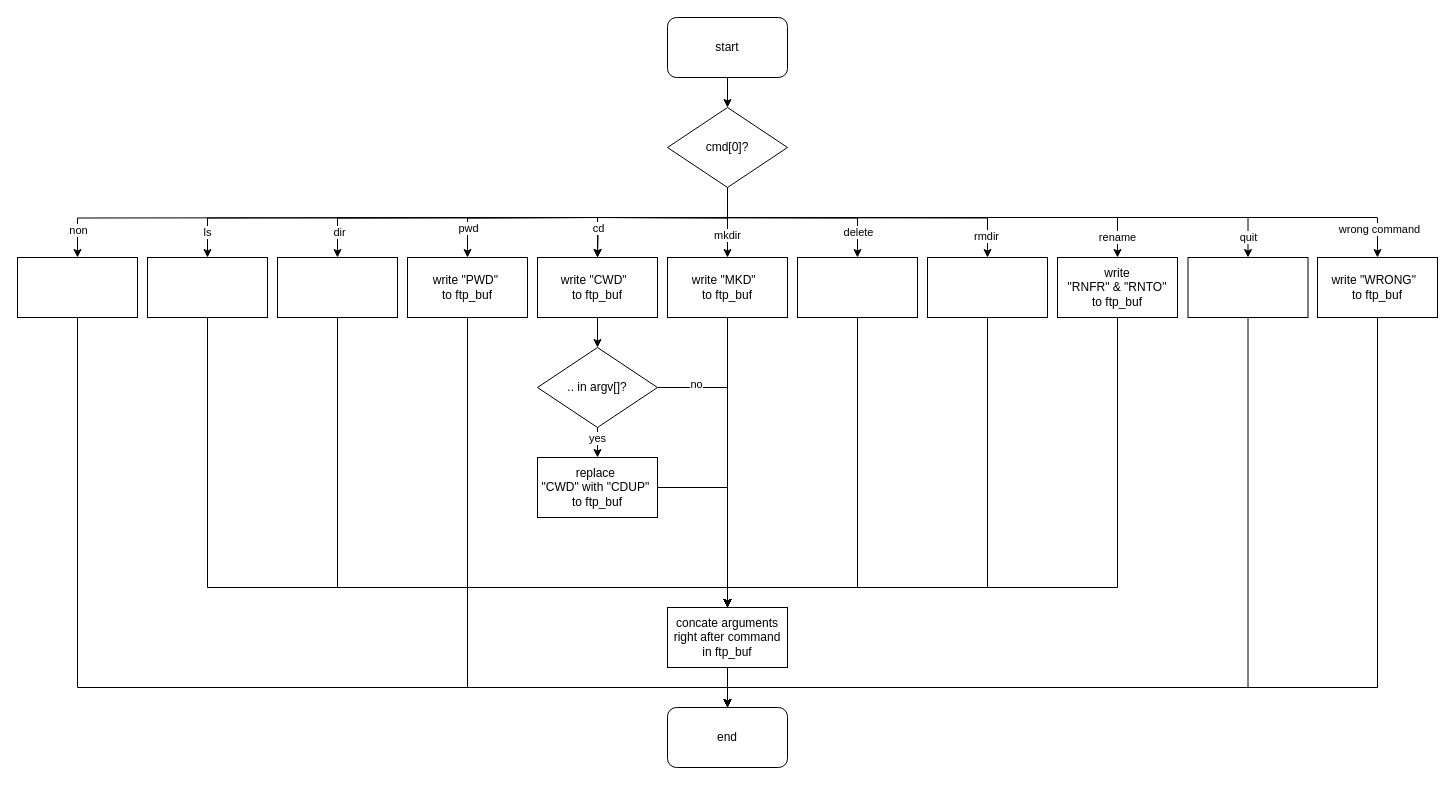
Image size: 1455x785. Some labels were removed from this diagram. The shapes that lost their labels are listed below. From the top down, each one's centre as x and y in pixels, then its label:
[77,287]: write "NON" to ftp_buf
[207,287]: write "NLST" to ftp_buf
[337,287]: write "LIST" to ftp_buf
[857,287]: write "DELE" to ftp_buf
[987,287]: write "RMD" to ftp_buf
[1247,287]: write "QUIT" to ftp_buf
